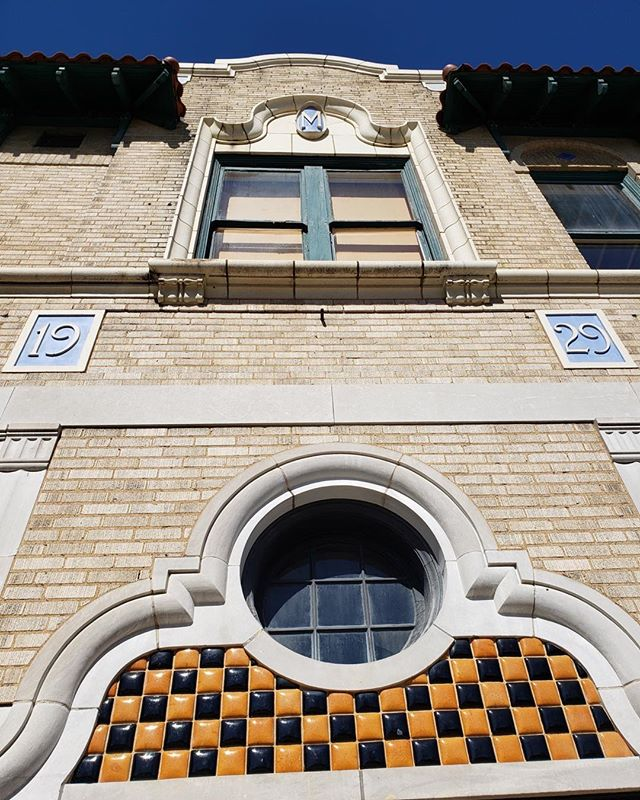building: (1, 63, 629, 781)
window: (223, 480, 461, 666), (216, 152, 451, 275), (531, 143, 640, 309)
